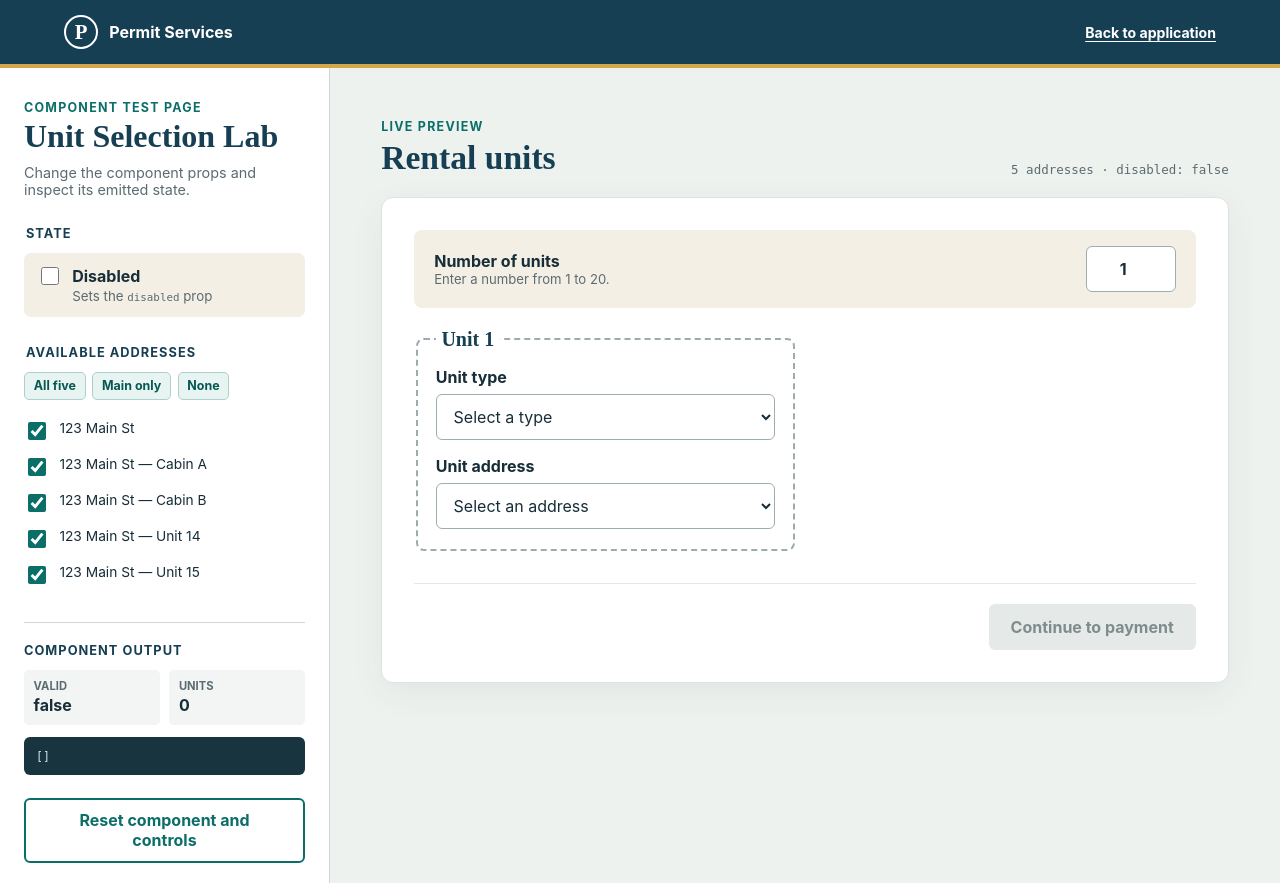
UnitSelectionLab › resets both controls and component state
Step 1. Click the checkbox with id "component-disabled" → (50, 276), box [41, 267, 59, 285]
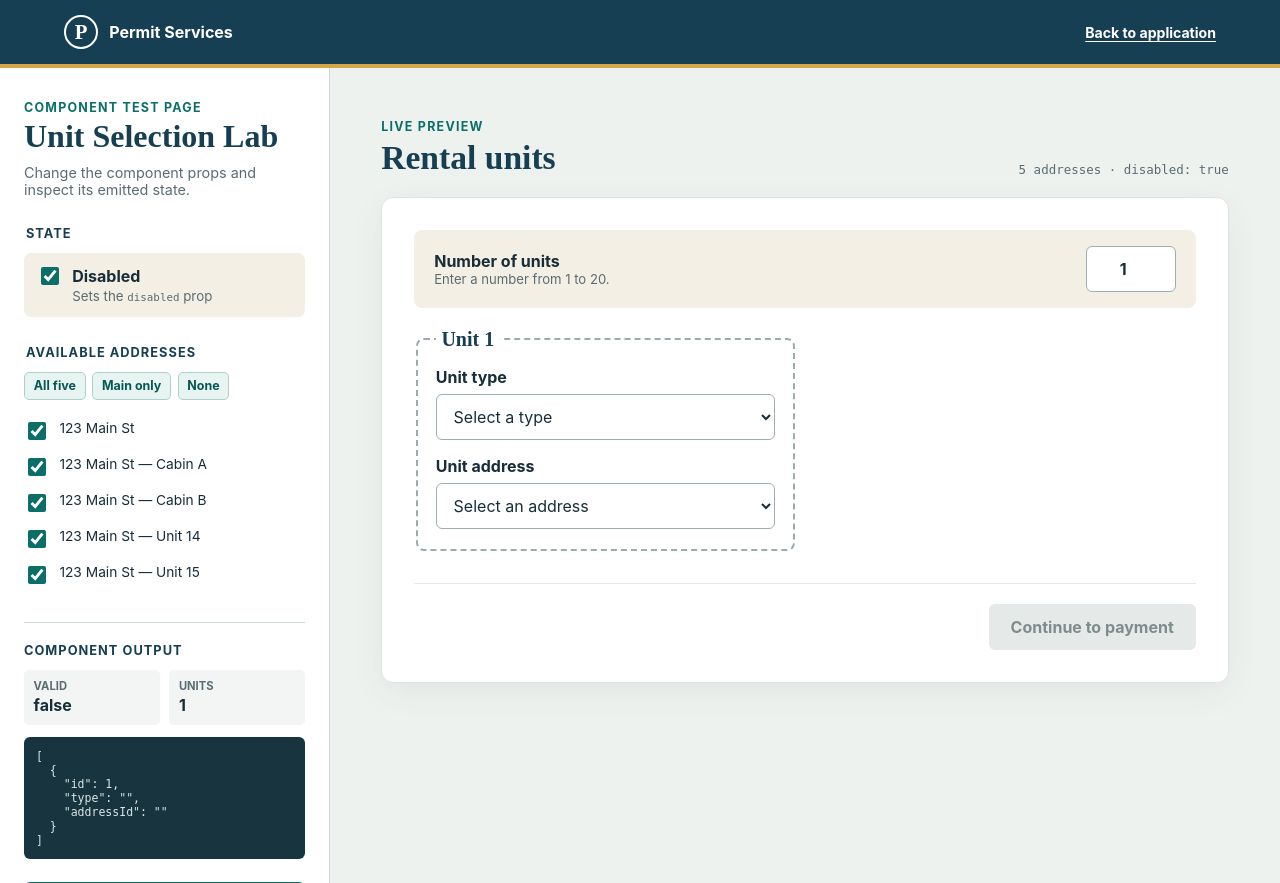
Step 2. Click the button "None" → (203, 386), box [178, 372, 229, 400]
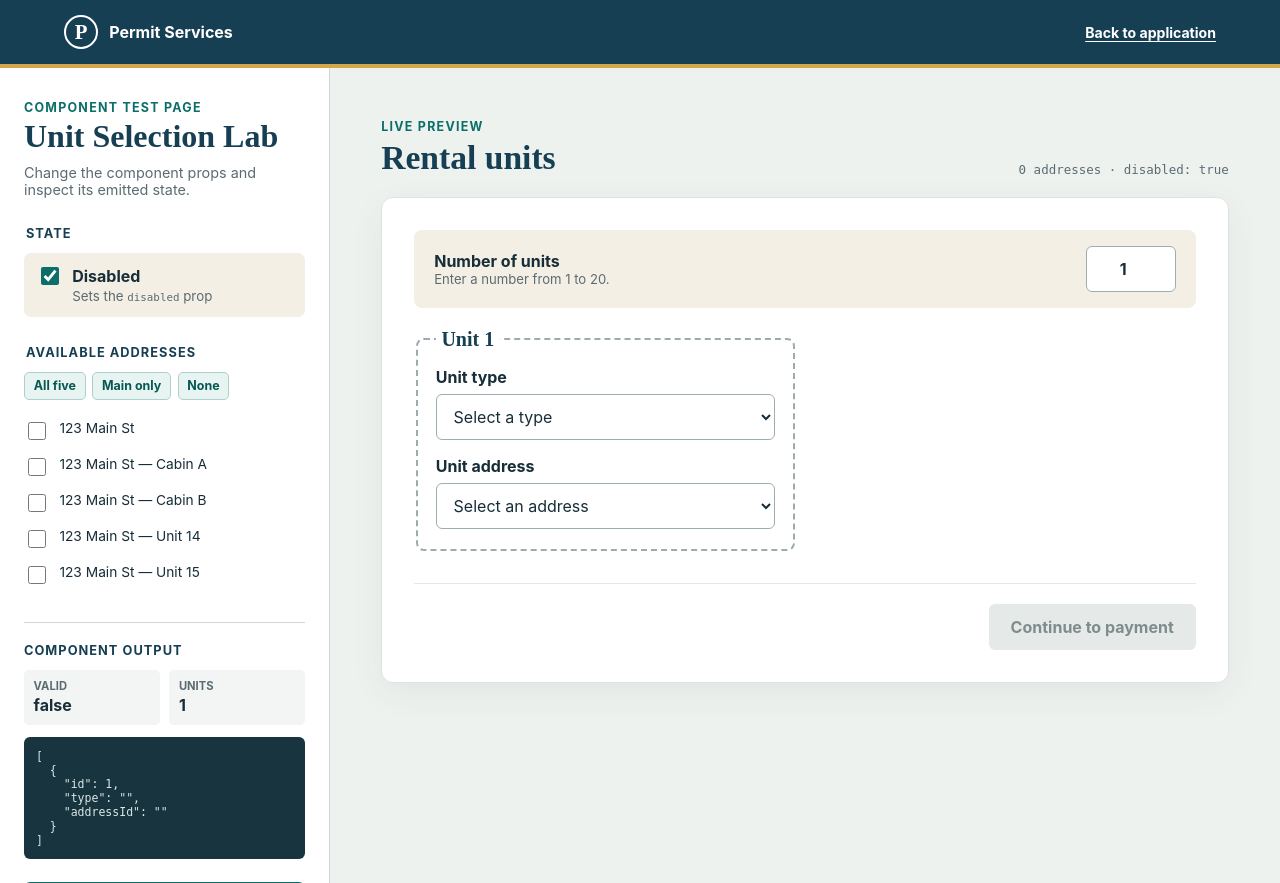
Step 3. Replace the text in the number field with id "unit-count" with "3" → (1131, 269), box [1086, 246, 1176, 292]
(page scrolled)
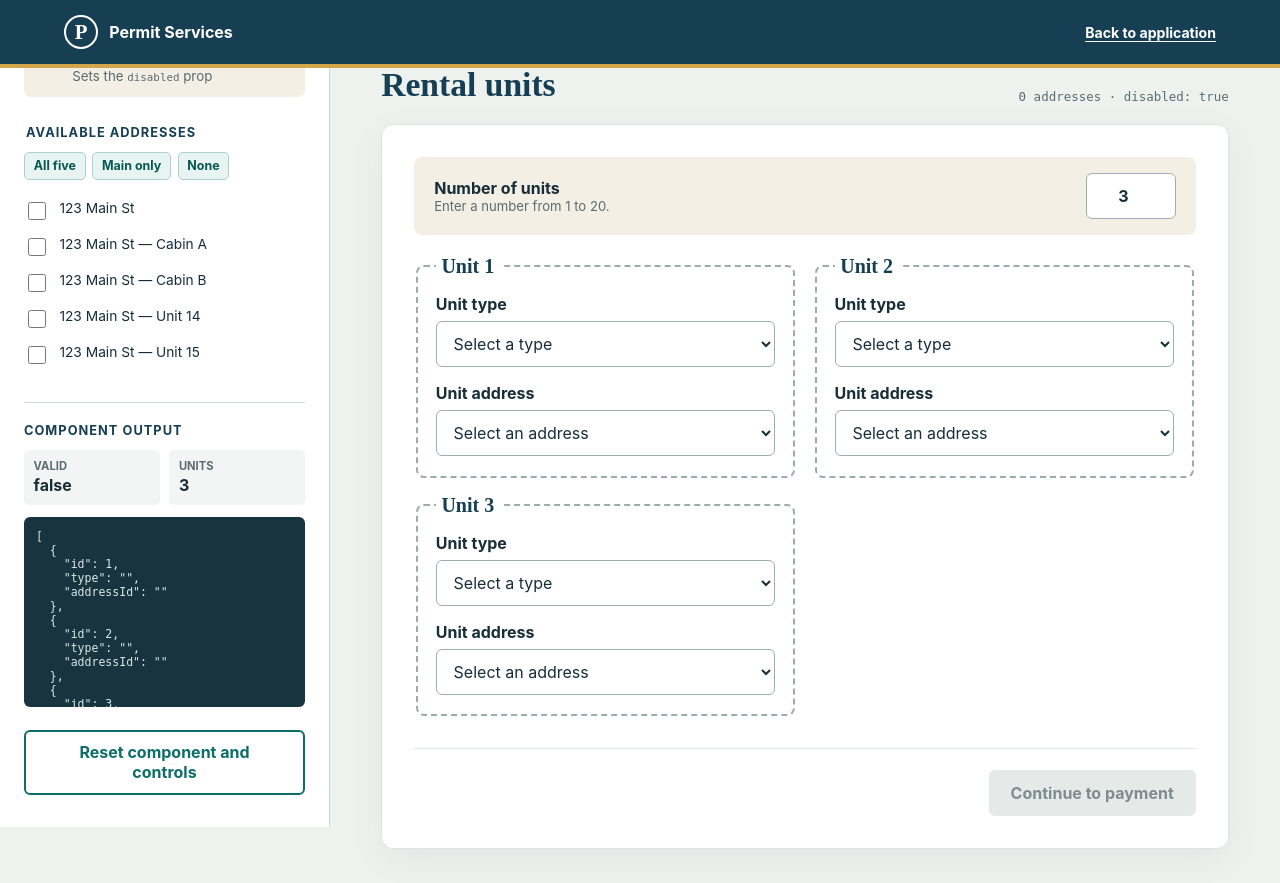
Step 4. Click the button "Reset component and controls" → (164, 762), box [24, 730, 305, 795]
(page scrolled)
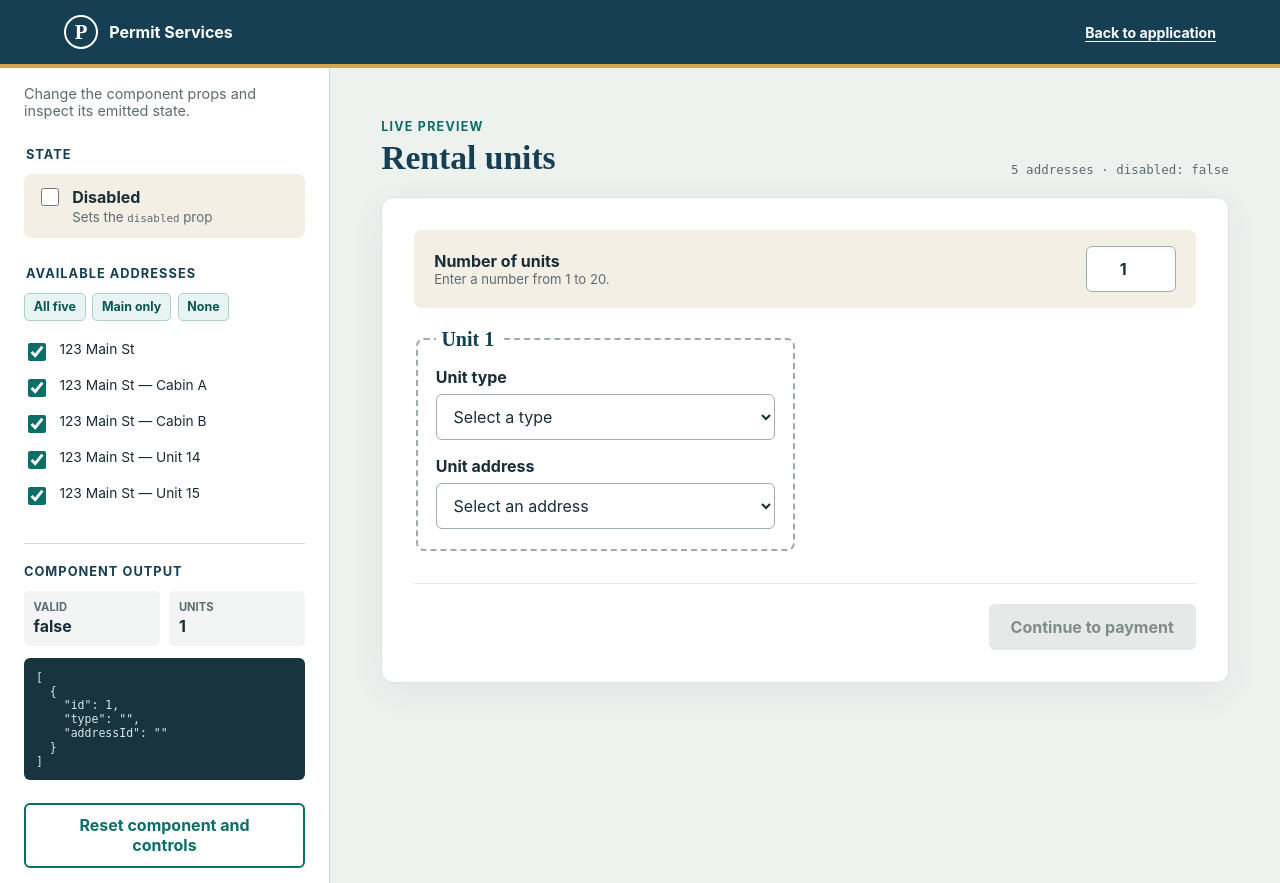
Check: the text with id "lab-output-count" reads "1", box [179, 616, 186, 636]
